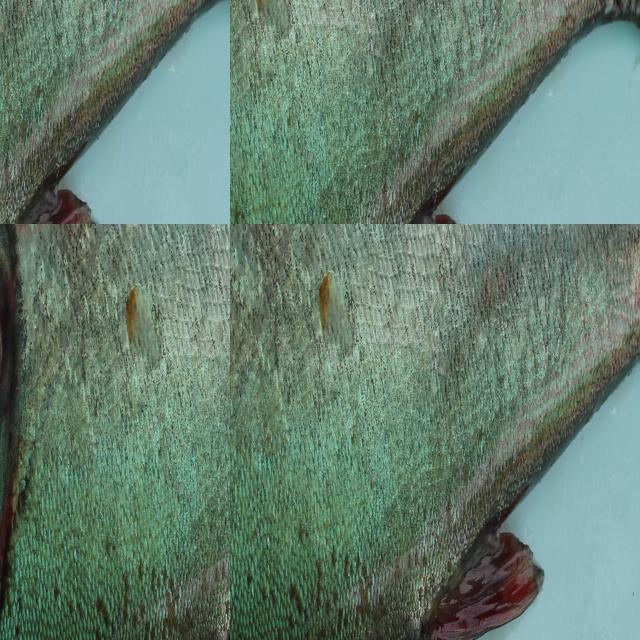fish: (230, 224, 640, 640)
